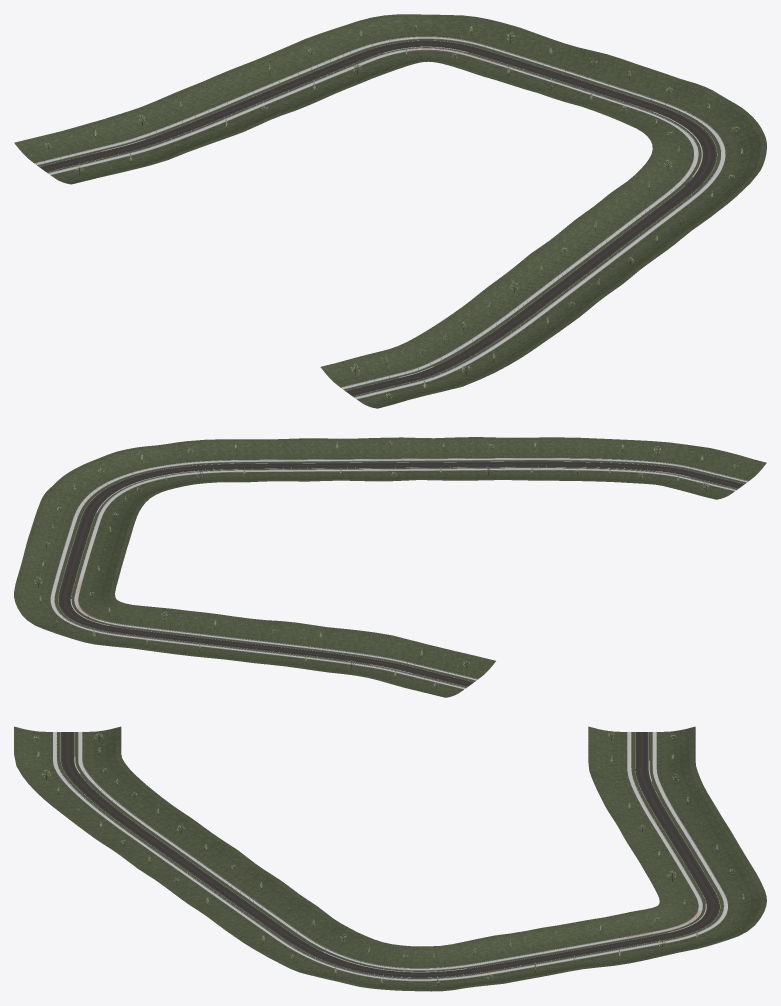
3 renders of one model, top to bottom at view 1: azimuth 30°, elevation 25°; view 2: azimuth 150°, elevation 25°; view 3: azimuth 270°, elevation 25°, orthographic. The views are drawn at different scales.
Visible parts, largest first — view 1: Grass, Road, Track, Trees; view 2: Grass, Track, Road, Trees; view 3: Grass, Road, Track, Trees.
Part boxes in pixels (x1,y1,x2,y2): Grass: [14, 14, 766, 408]; Road: [39, 40, 716, 396]; Track: [35, 36, 725, 399]; Trees: [45, 25, 742, 397]; Grass: [14, 437, 766, 697]; Track: [50, 458, 748, 689]; Road: [58, 461, 744, 686]; Trees: [34, 441, 739, 688]; Grass: [14, 726, 766, 991]; Road: [61, 732, 719, 977]; Track: [53, 731, 727, 981]; Trees: [33, 731, 744, 986].
Bounding box in the file's own units: 82102 × 1939 × 98319.
